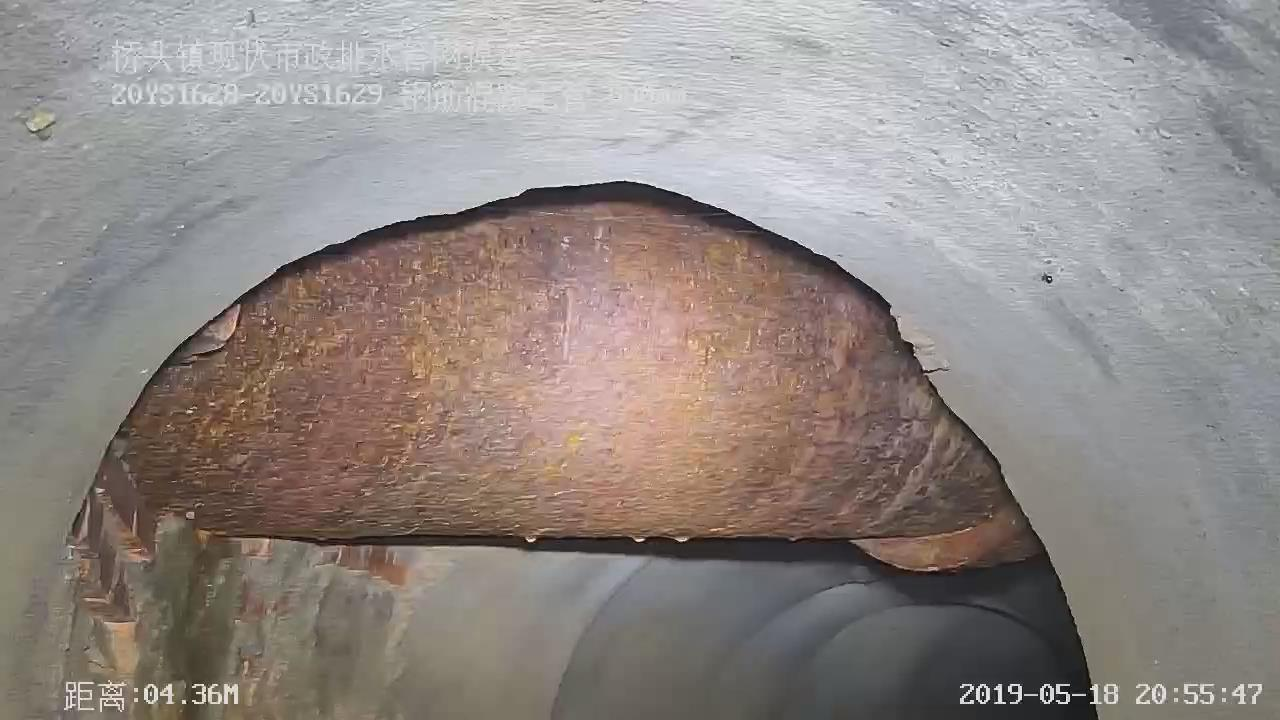YWCR: (86, 182, 1043, 572)
